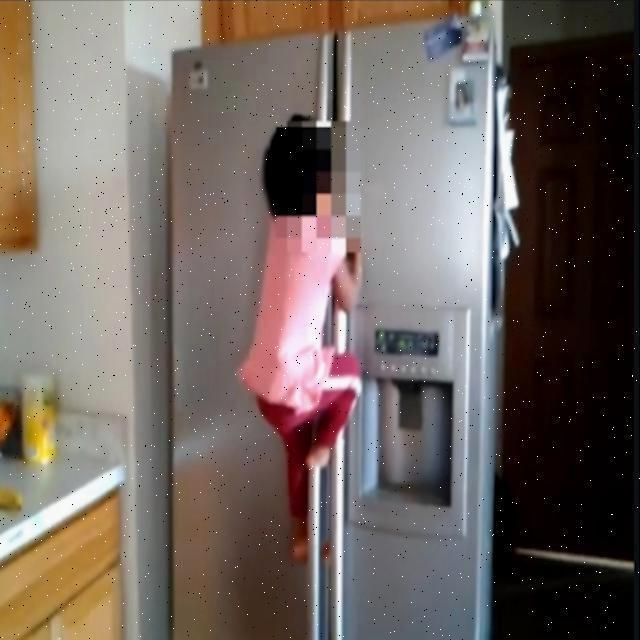child: (247, 122, 359, 571)
